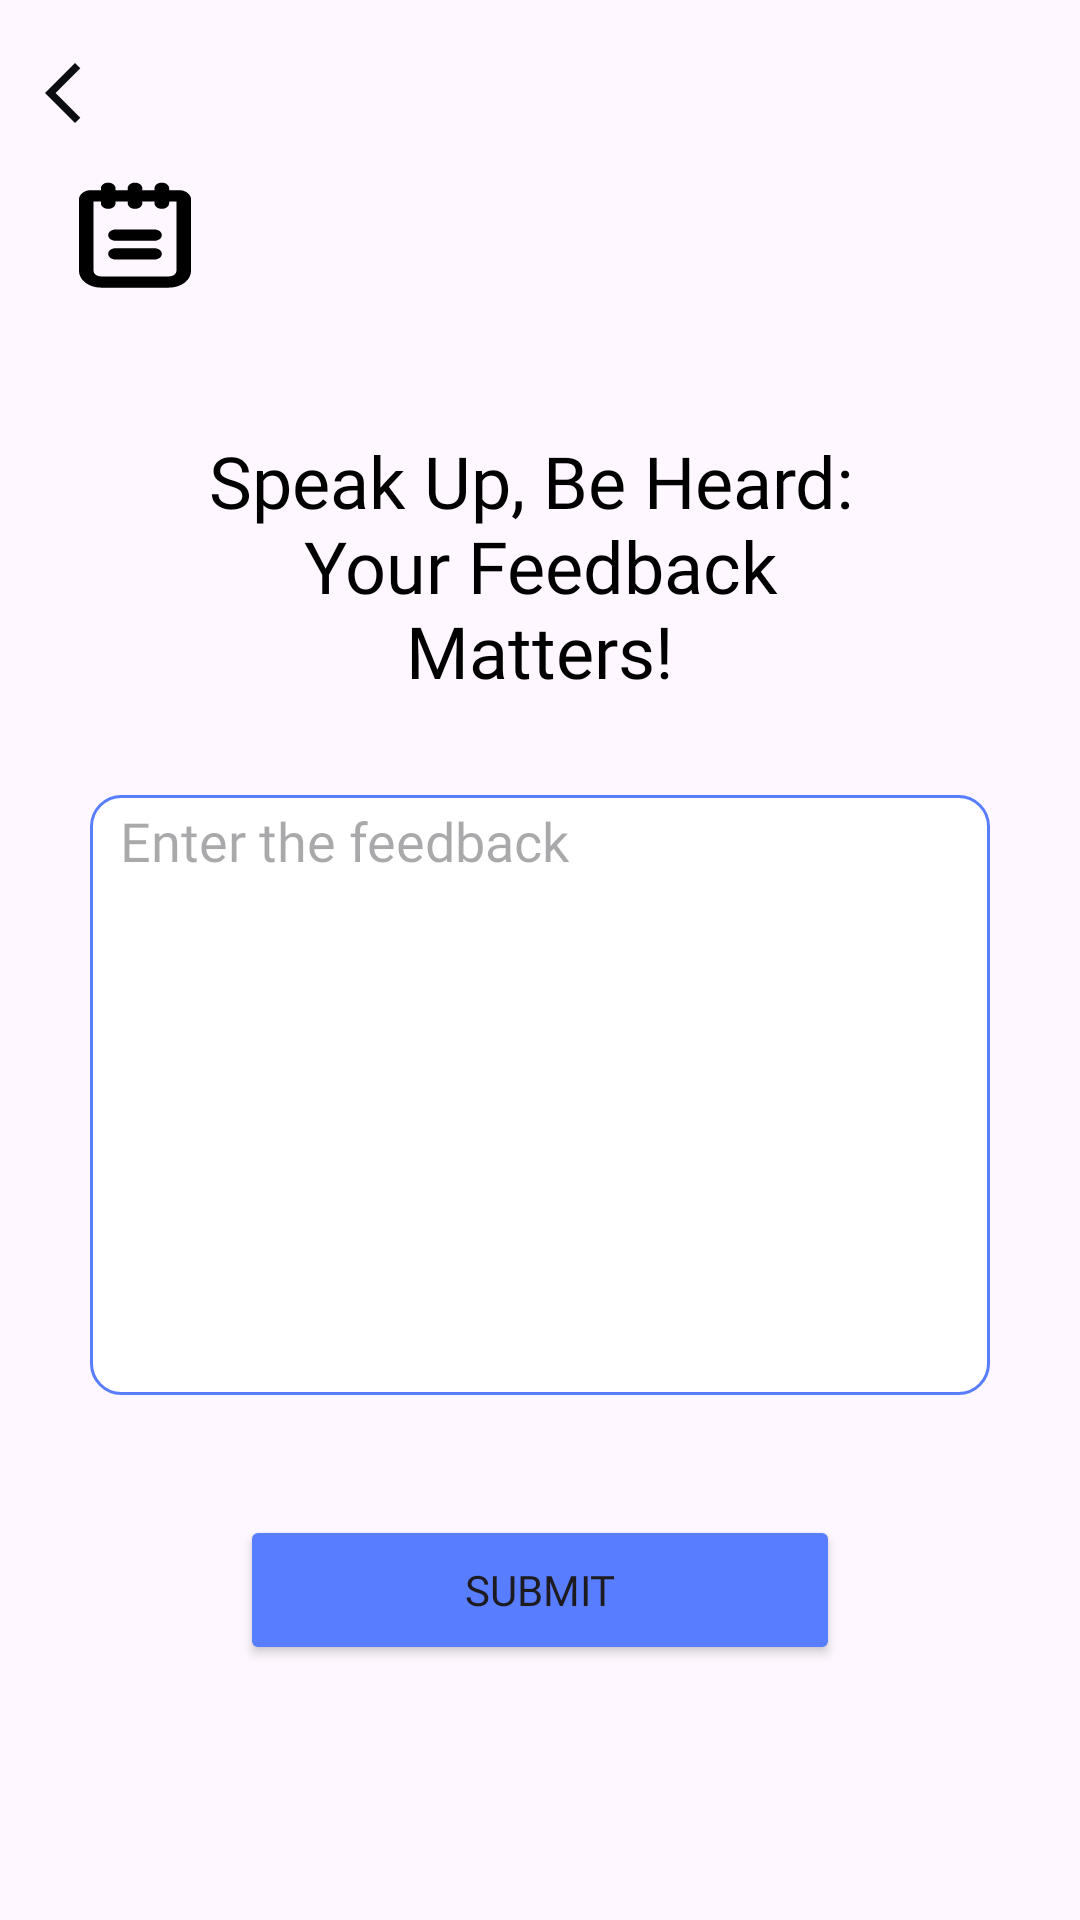

Icons on this 1080 x 1920 Android screen, each with the point to tap as (x,y):
arrow back: (62,93)
suggestion box: (135,235)
